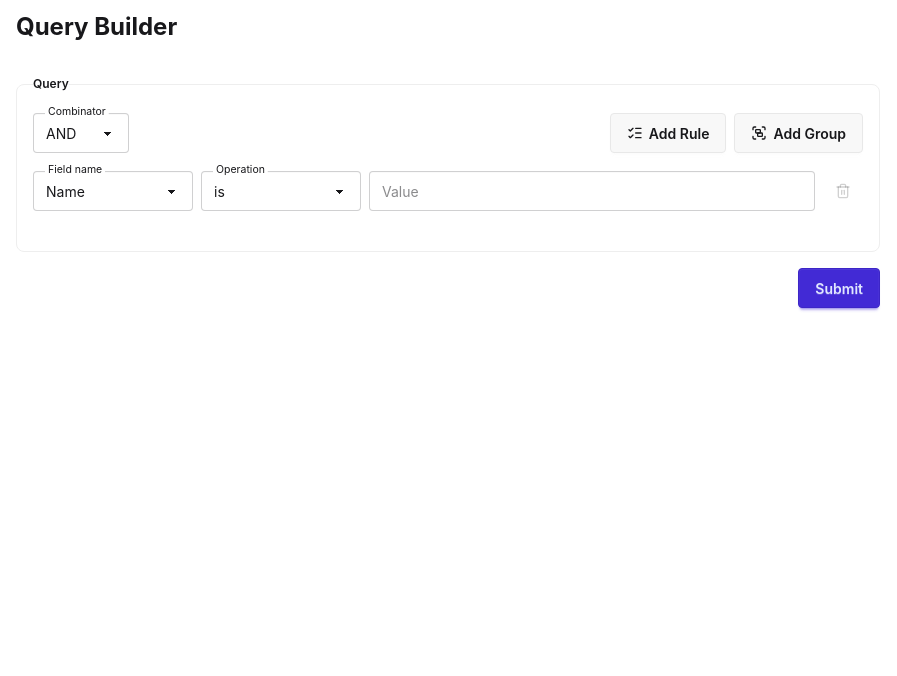
submitting the query › disables Submit while the request is in flight
Type "john" into the field labelled "Value" at [592, 191], box [369,171,815,211]
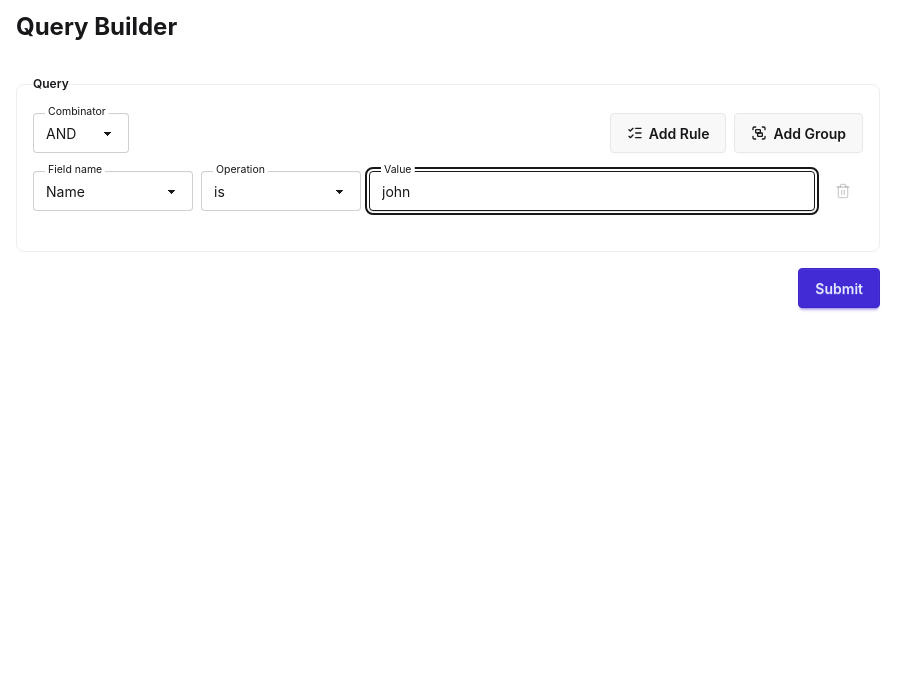
Click the button "Submit" at [839, 288], box [798,268,880,308]
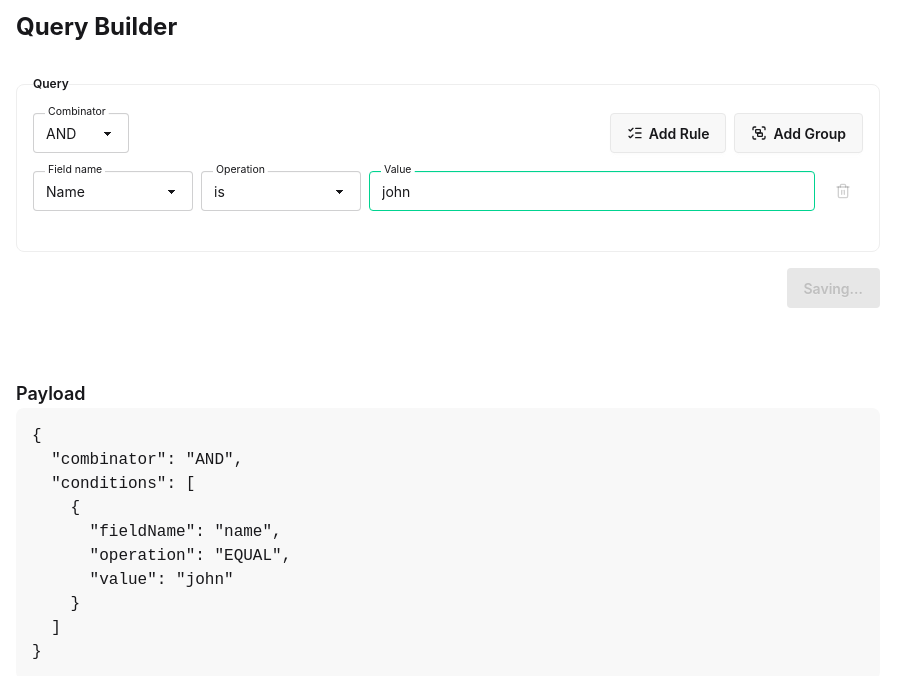
Expected: the button "Saving…" is disabled, [786,268,880,308]
